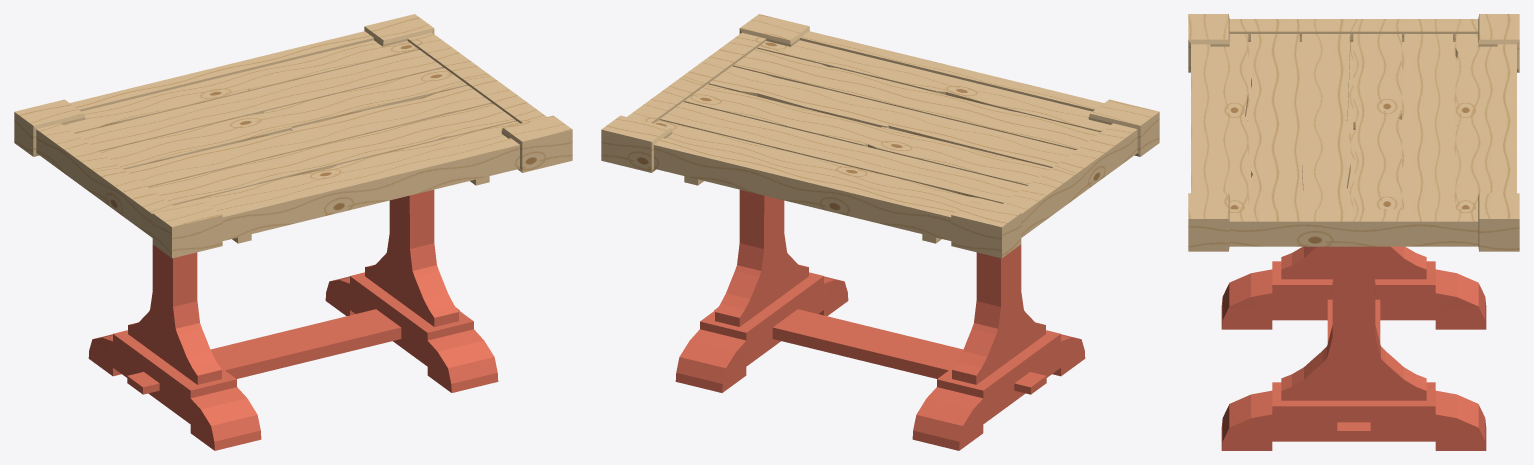
Rendered from table_b.glb.
The picture shows the model from 3 angles, left to right: view 1: azimuth 30°, elevation 25°; view 2: azimuth 150°, elevation 25°; view 3: azimuth 270°, elevation 25°; orthographic projection. The views are drawn at different scales.
Visible parts, largest first — view 1: body; view 2: body; view 3: body.
Part boxes in pixels (x1=…): body: x1=14, y1=14, x2=572, y2=450; body: x1=601, y1=14, x2=1159, y2=450; body: x1=1188, y1=14, x2=1519, y2=450.
Size of the model in its own units: 1.26 by 0.75 by 0.86.
2 materials, 1 textured.
